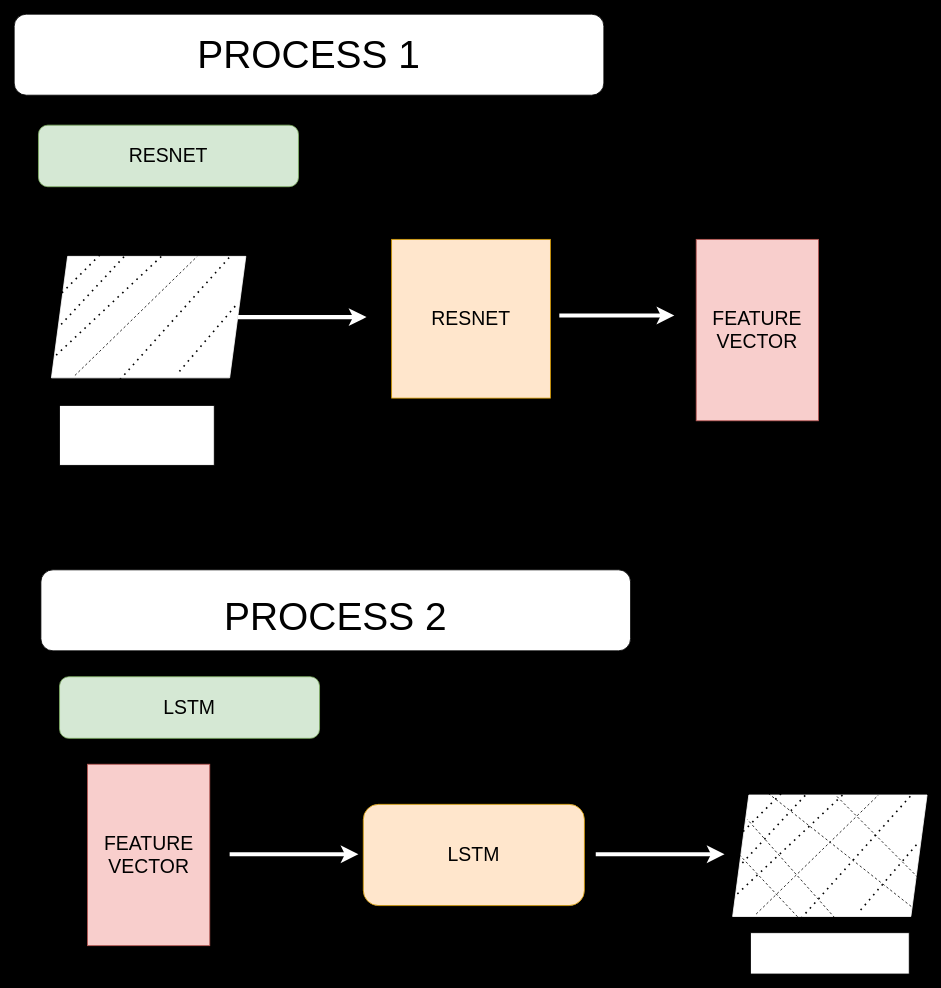
The diagram is 941 pixels wide and 988 high, and some of its shapes have lost their labels. The centre of each missing label's shape, as x and y in pixels:
"Input Image" goes at (x=136, y=435).
"Output Image" goes at (x=829, y=953).
